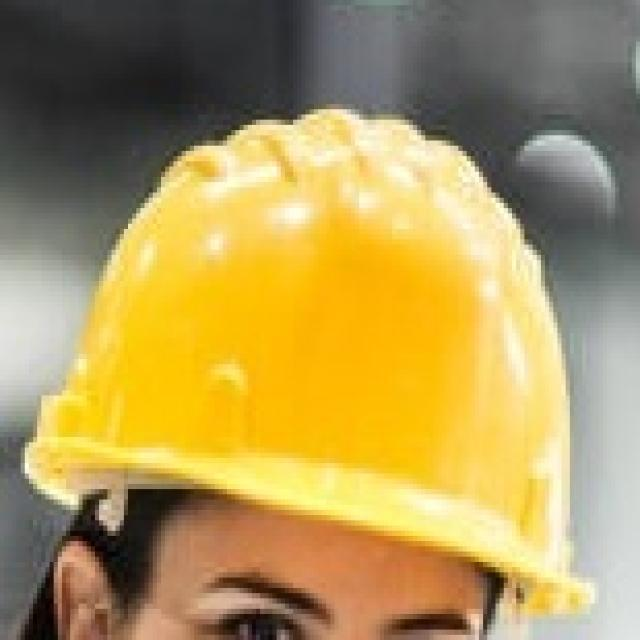Helmet: (4, 83, 640, 638)
